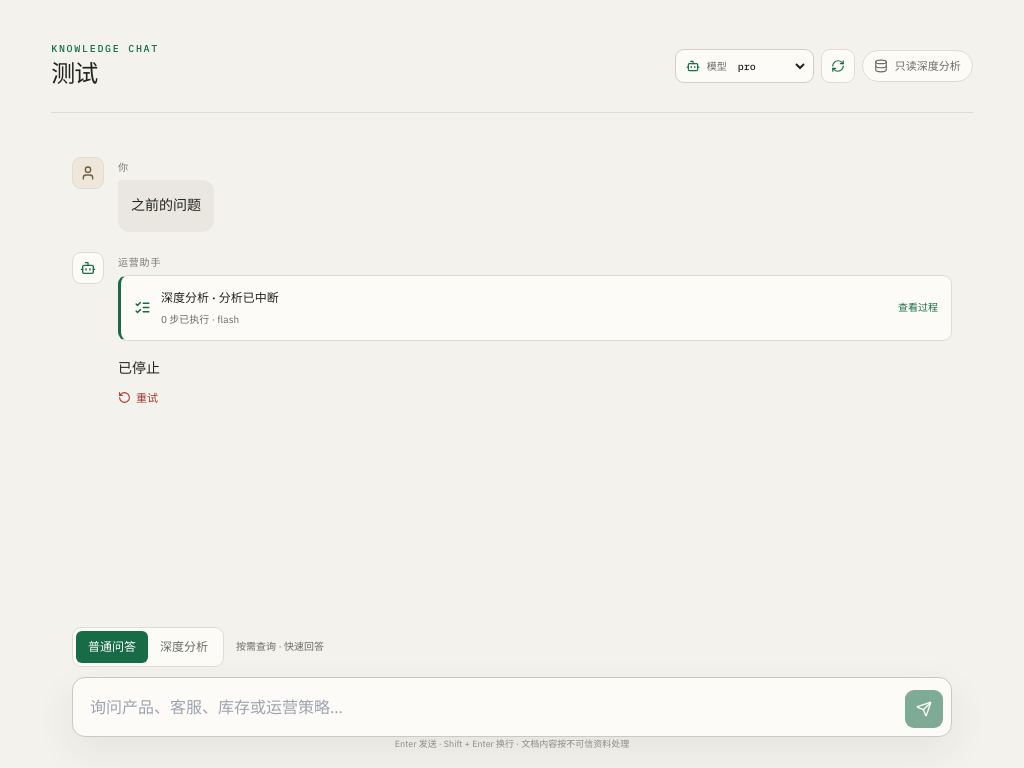
历史深度分析恢复过程，失败重试仍使用原模式和模型
The width and height of the screenshot is (1024, 768).
Expected: the text "深度分析 · 分析已中断" is shown, [161,290,279,305]
Click the button "重试" at [138, 398], box [118,386,158,410]
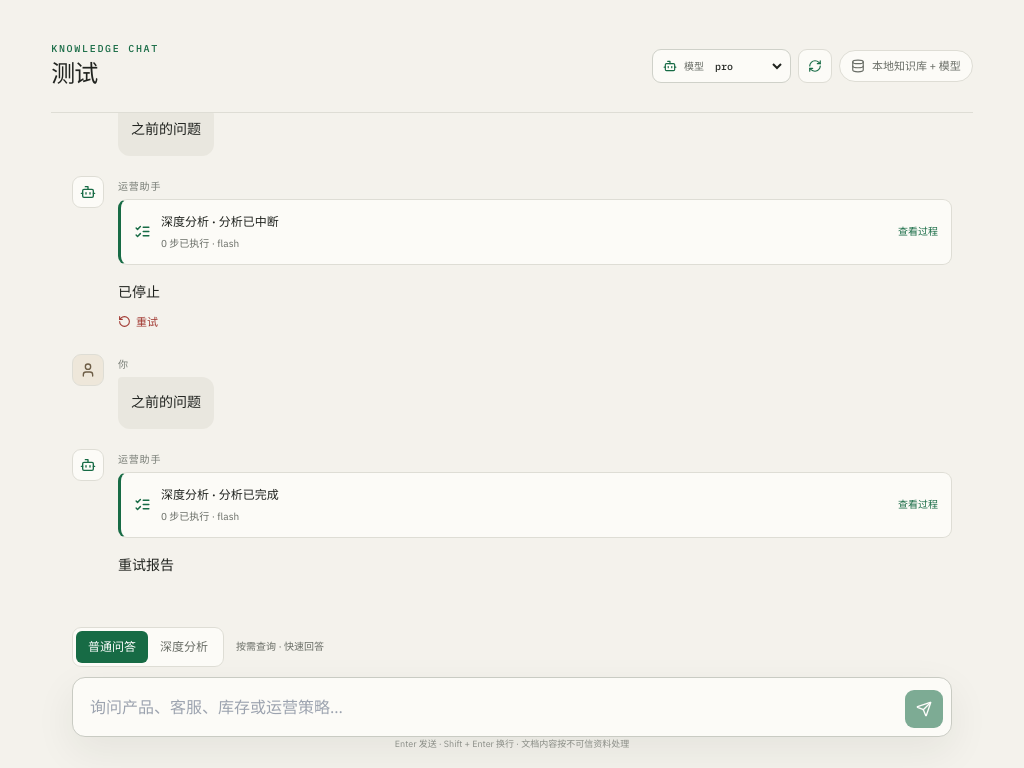
Expected: the 1st text "之前的问题" is shown, [131,118,201,142]
Expected: the text "重试报告" is shown, [118,556,174,574]
